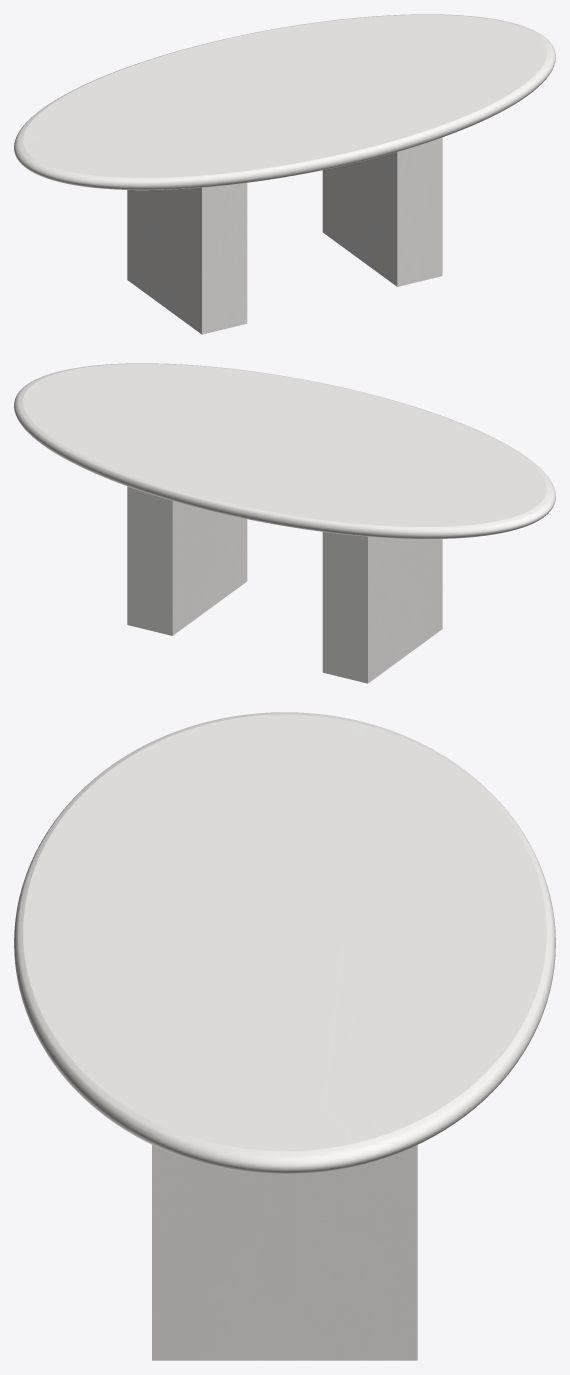
Rendered from purewhite_ellips_round_ridge.glb.
3 renders of one model, top to bottom at view 1: azimuth 30°, elevation 25°; view 2: azimuth 150°, elevation 25°; view 3: azimuth 270°, elevation 25°, orthographic. The views are drawn at different scales.
Parts seen in each view (by area): view 1: round_ellips, ridge; view 2: round_ellips, ridge; view 3: round_ellips, ridge.
Part boxes in pixels (box(x1,y1,x2,y2)): round_ellips: box(14, 14, 555, 190); ridge: box(127, 137, 442, 334); round_ellips: box(14, 363, 555, 539); ridge: box(127, 486, 442, 683); round_ellips: box(14, 712, 555, 1174); ridge: box(152, 1145, 417, 1360).
Size of the model in its own units: 7.5 by 2.5 by 3.8.
1 material, 1 textured.
